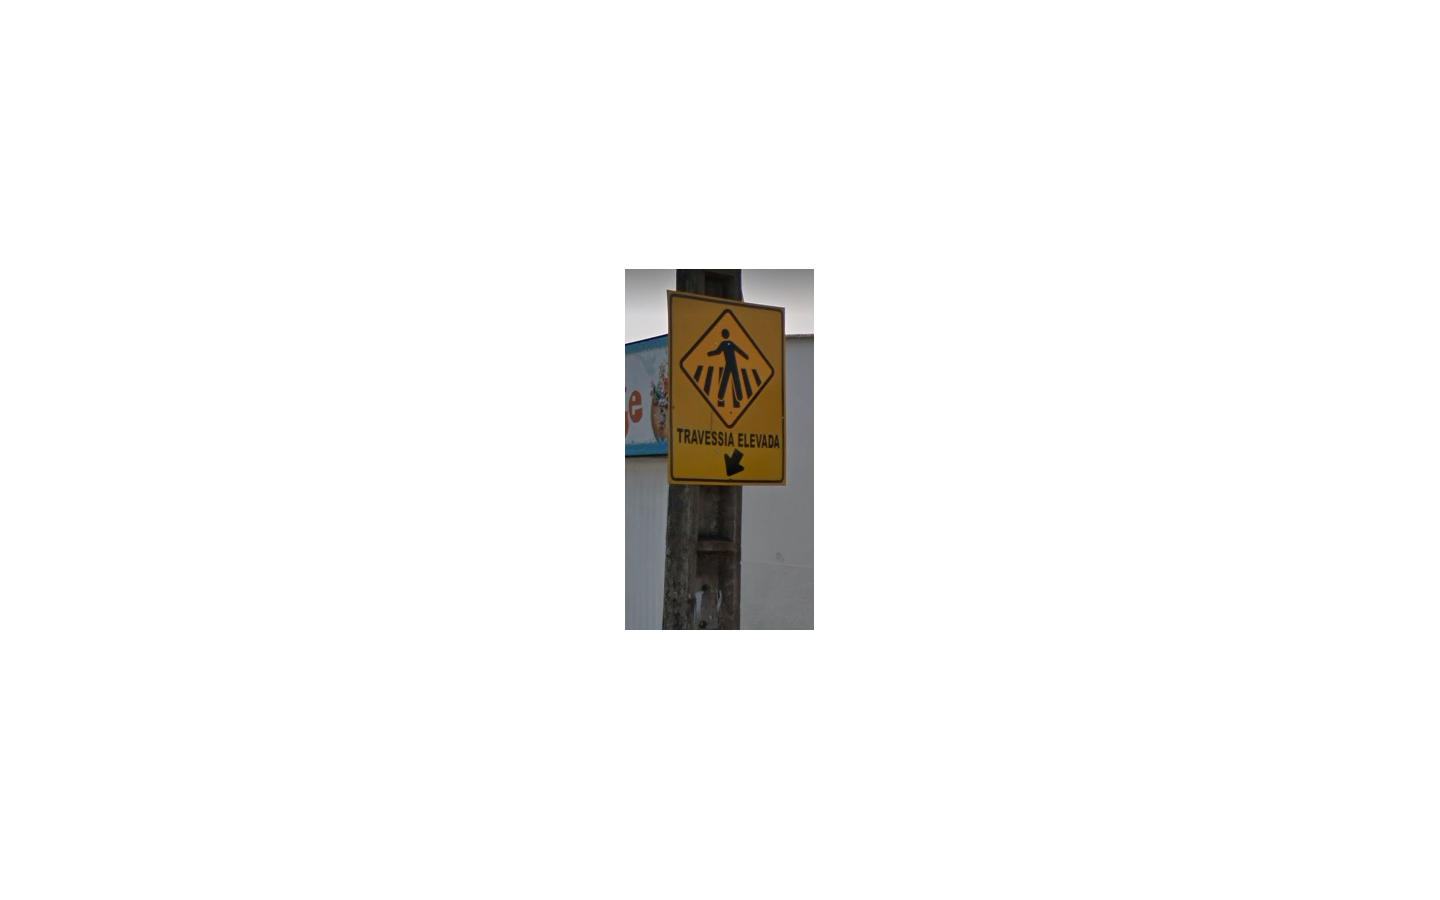telev: (666, 289, 787, 486)
